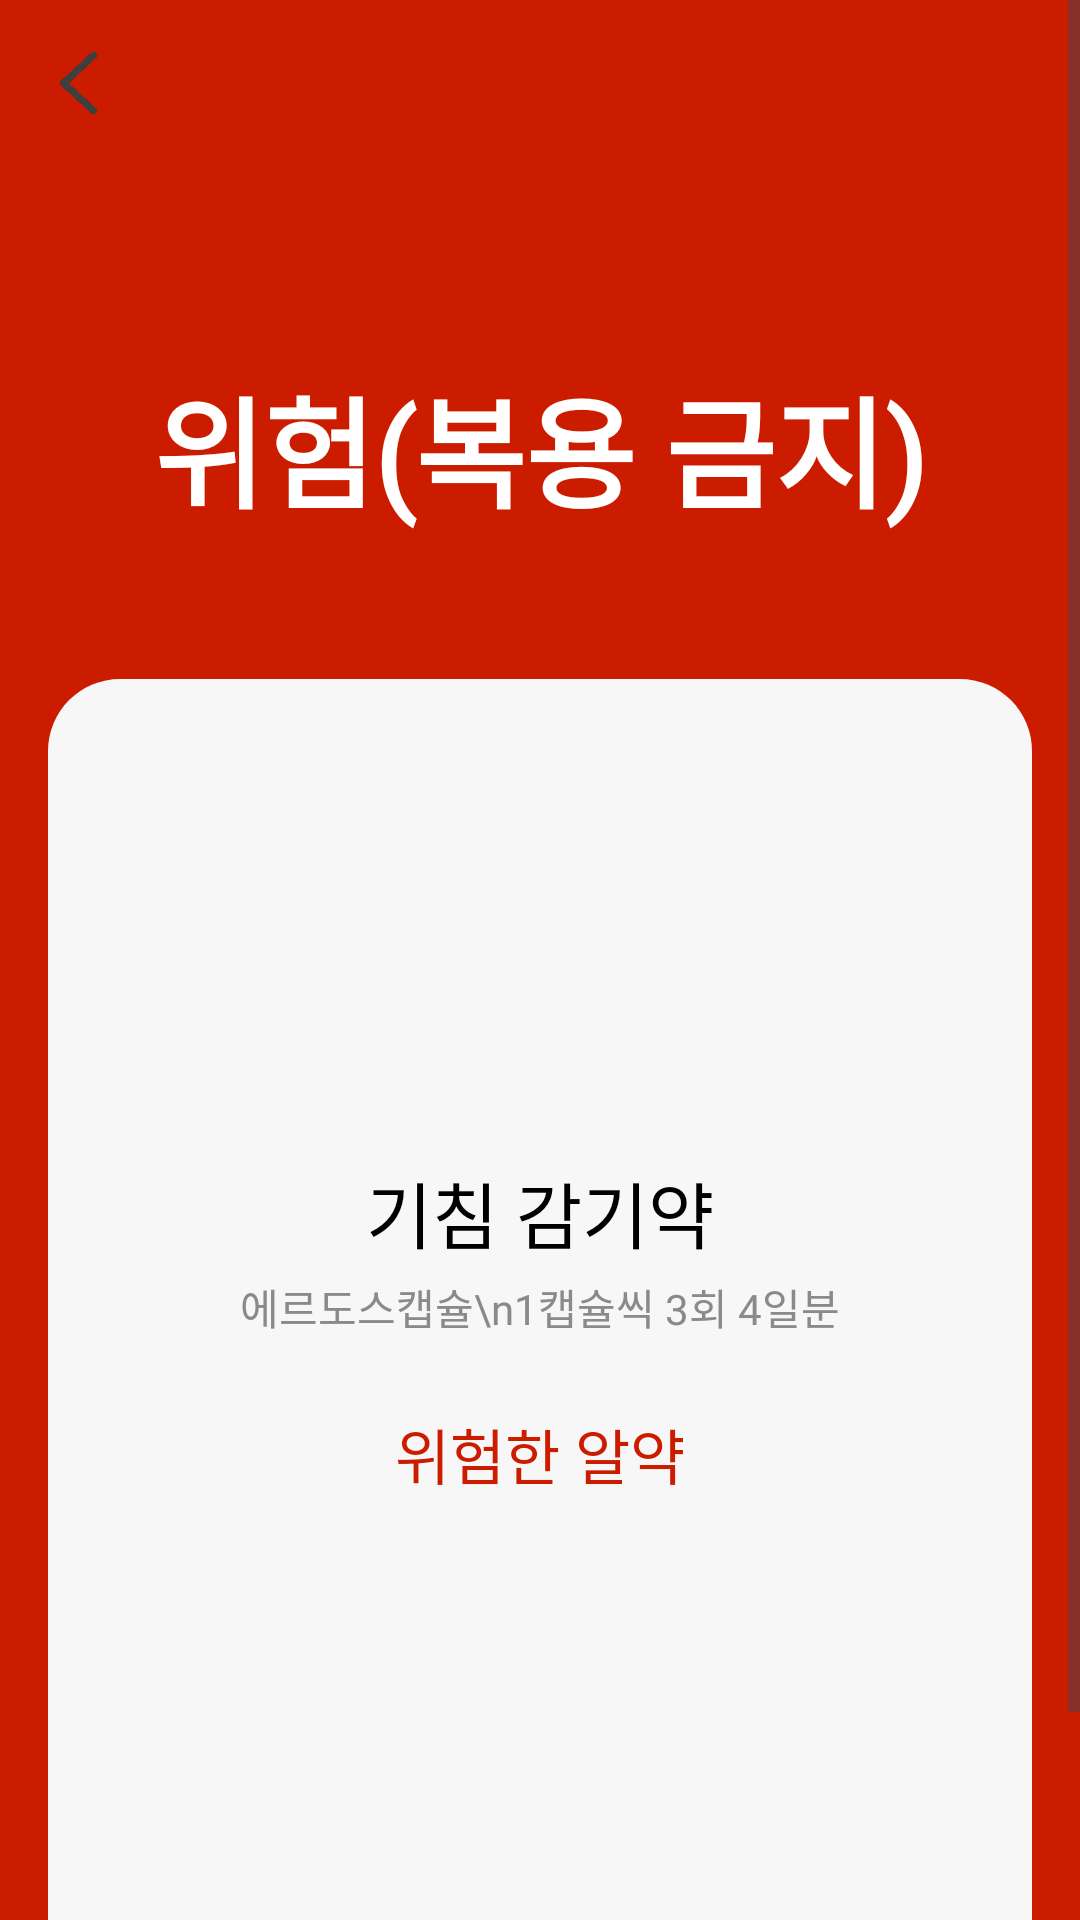

Point at icon controls on the screen. Image size 1080 x 1920, points as point (x, y).
return: point (79, 83)
